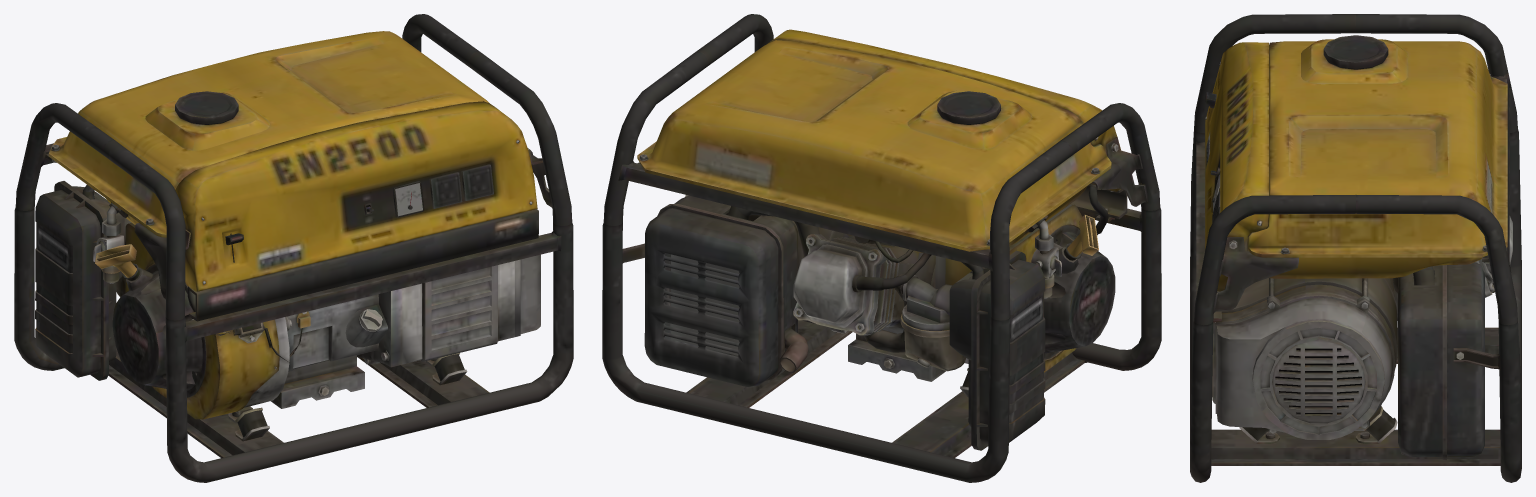
The model's file is portable_generator.glb.
The picture shows the model from 3 angles, left to right: view 1: azimuth 30°, elevation 25°; view 2: azimuth 150°, elevation 25°; view 3: azimuth 270°, elevation 25°; orthographic projection.
Parts seen in each view (by area): view 1: portable_generator; view 2: portable_generator; view 3: portable_generator.
Part boxes in pixels (x1=…): portable_generator: x1=14, y1=14, x2=573, y2=482; portable_generator: x1=602, y1=14, x2=1161, y2=482; portable_generator: x1=1190, y1=14, x2=1521, y2=482.
Bounding box in the file's own units: 0.8169 × 0.5752 × 0.564.
Materials: 2 (2 with a texture image).
